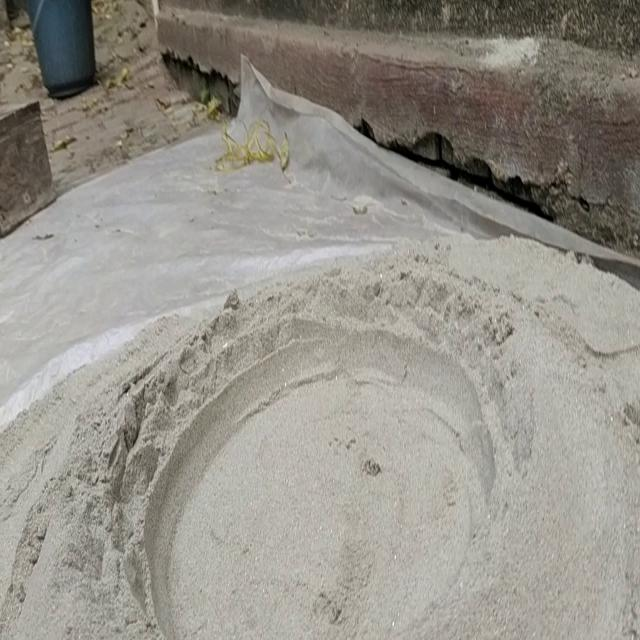C40: (144, 326, 500, 636)
